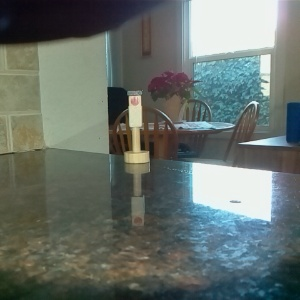traffic light red: (123, 89, 150, 166)
